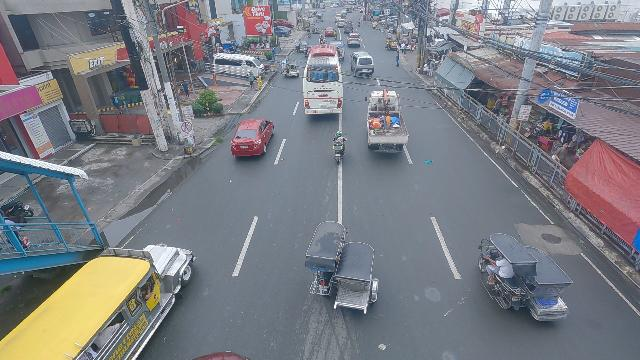bus: (303, 45, 344, 116)
car: (230, 116, 275, 158), (347, 33, 362, 47), (274, 26, 292, 36), (343, 22, 353, 34), (324, 27, 335, 37), (337, 19, 346, 27)
jeepney: (0, 243, 198, 360), (329, 40, 346, 59), (316, 13, 323, 21)
motorcycle: (332, 131, 349, 164), (319, 35, 325, 44), (306, 29, 311, 38), (334, 30, 338, 40), (358, 19, 361, 26)
truck: (366, 89, 410, 155)
van: (214, 52, 261, 79), (350, 51, 375, 77)
